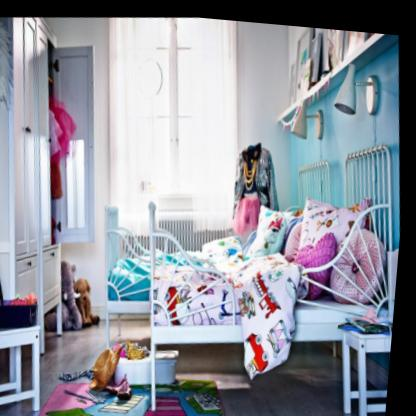Bed: (132, 117, 409, 416)
